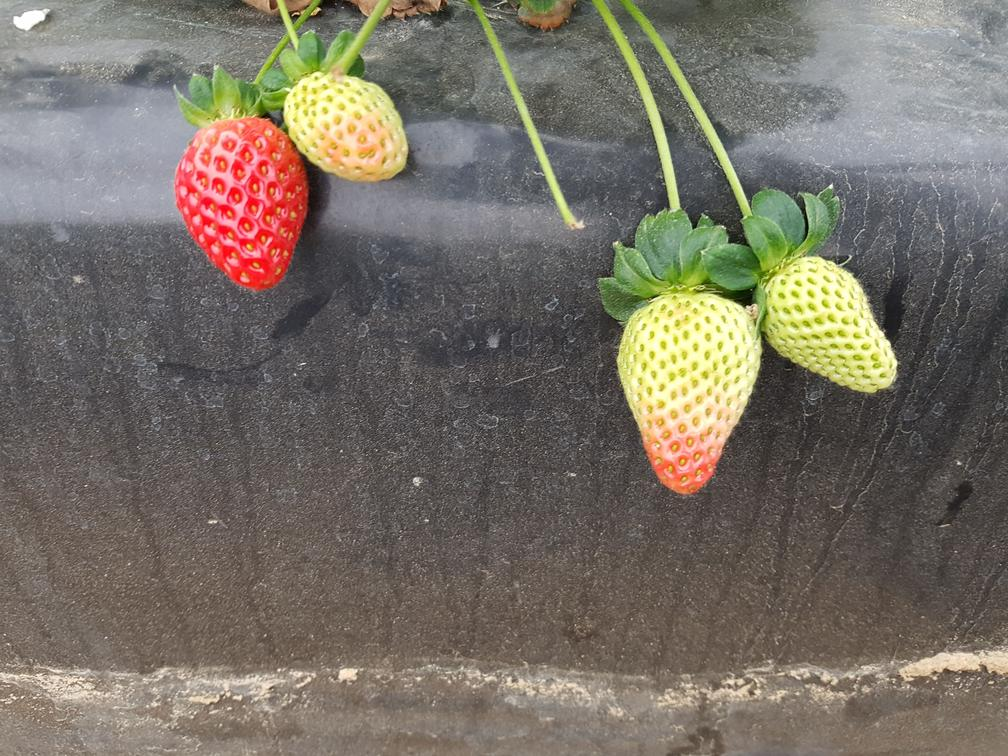Ripe: (175, 118, 304, 292)
Unripe: (616, 292, 762, 500), (761, 252, 905, 402), (288, 74, 419, 183)
